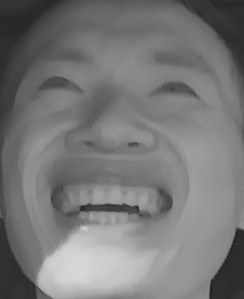eye: (142, 74, 208, 113), (34, 68, 86, 102)
mouth: (51, 165, 172, 241)
